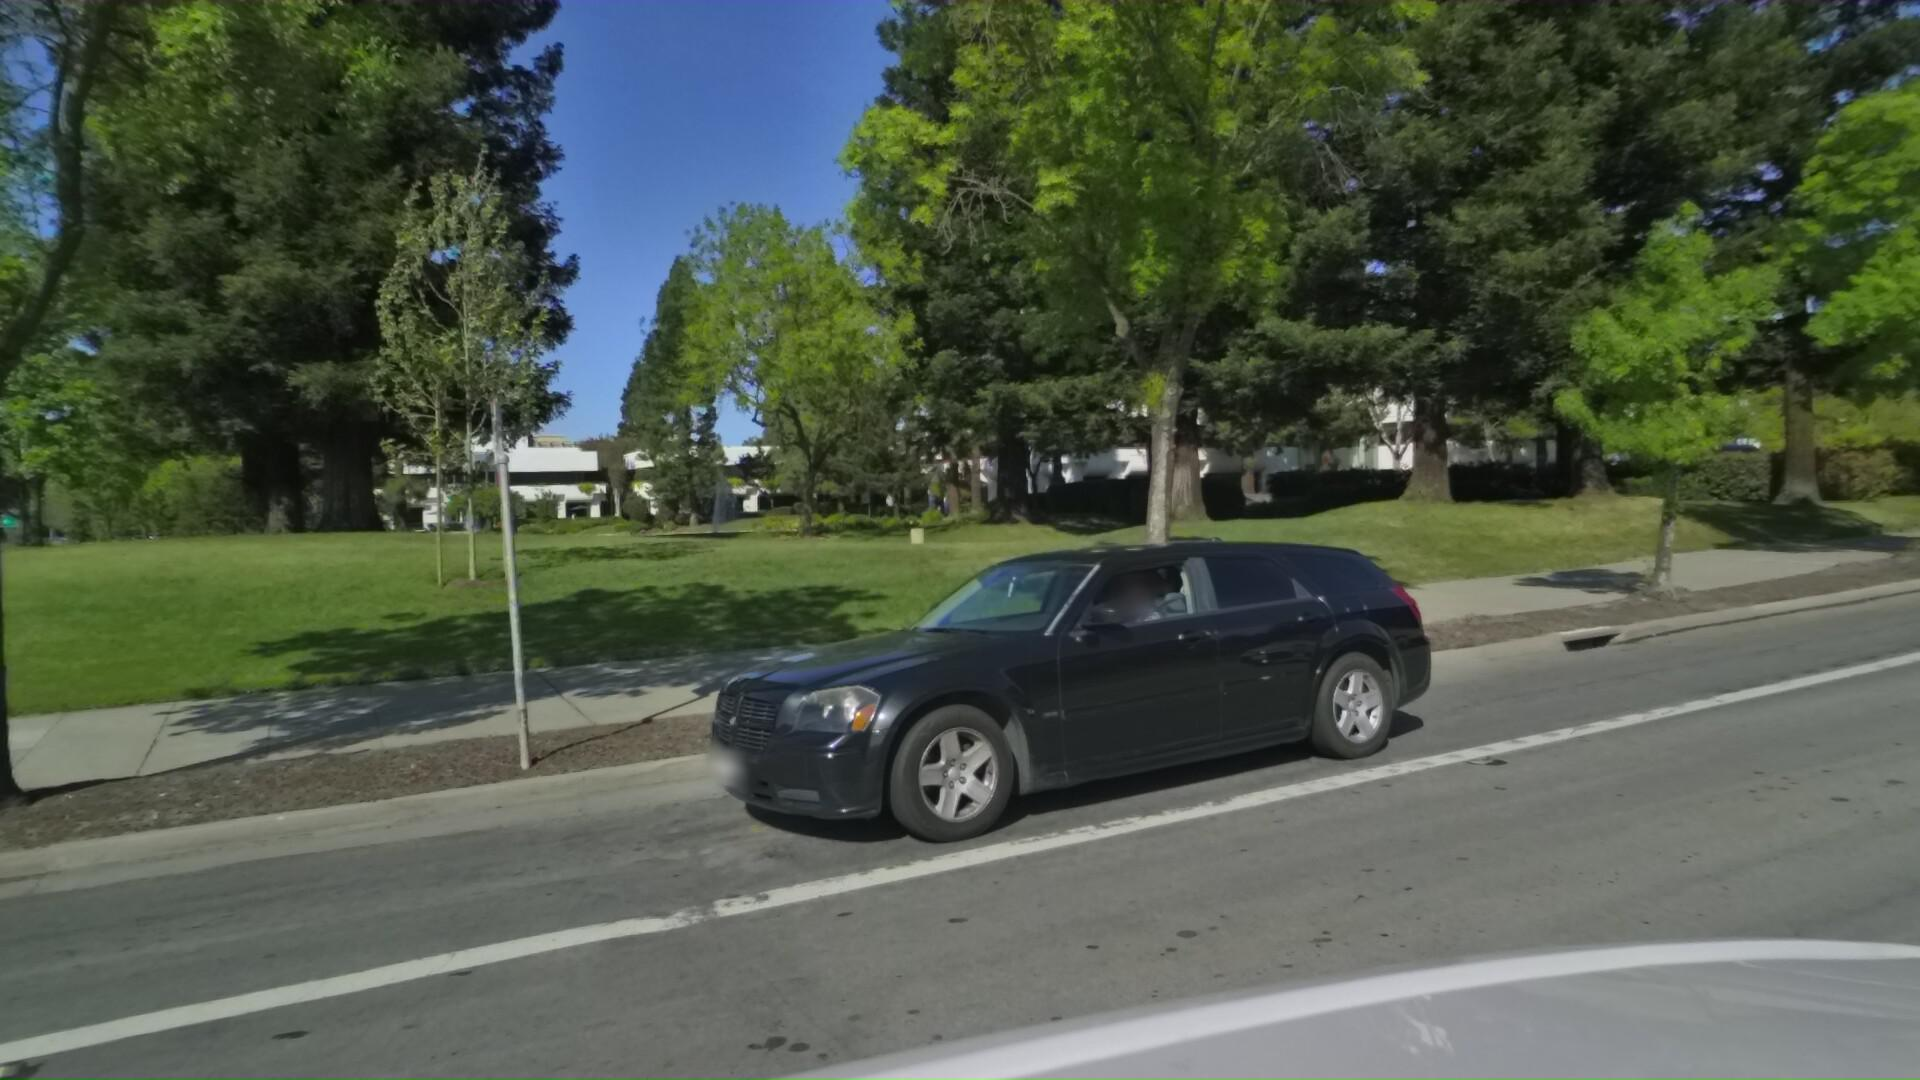car: (680, 505, 1462, 895)
